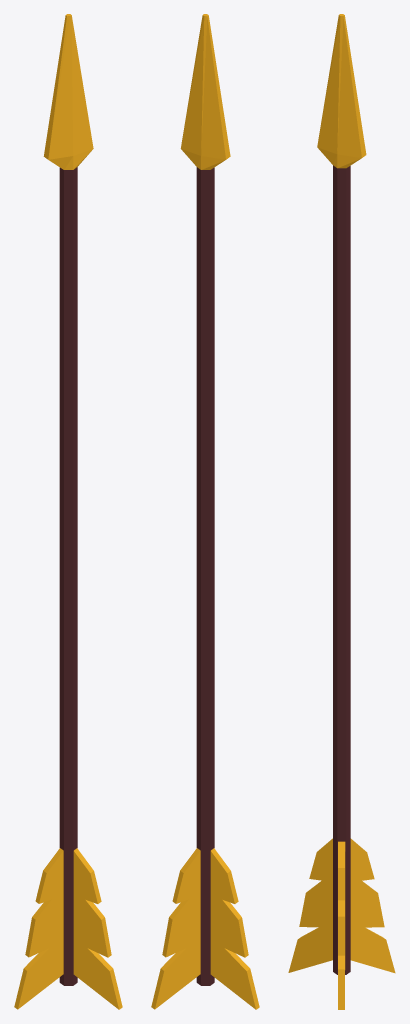
Rendered from arrow_golden.glb.
3 renders of one model, left to right at view 1: azimuth 30°, elevation 25°; view 2: azimuth 150°, elevation 25°; view 3: azimuth 330°, elevation 25°, orthographic.
Parts seen in each view (by area): view 1: Arrow_Golden; view 2: Arrow_Golden; view 3: Arrow_Golden.
Part boxes in pixels (<box>): Arrow_Golden: <box>14,14,122,1009</box>; Arrow_Golden: <box>151,14,259,1009</box>; Arrow_Golden: <box>288,14,395,1009</box>.
Bounding box in the file's own units: 12.69 × 146 × 14.6.
